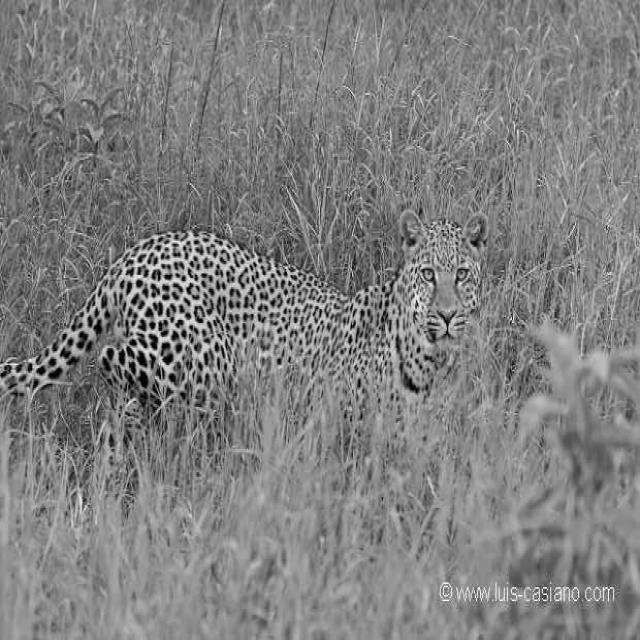Leopard: (0, 206, 489, 504)
